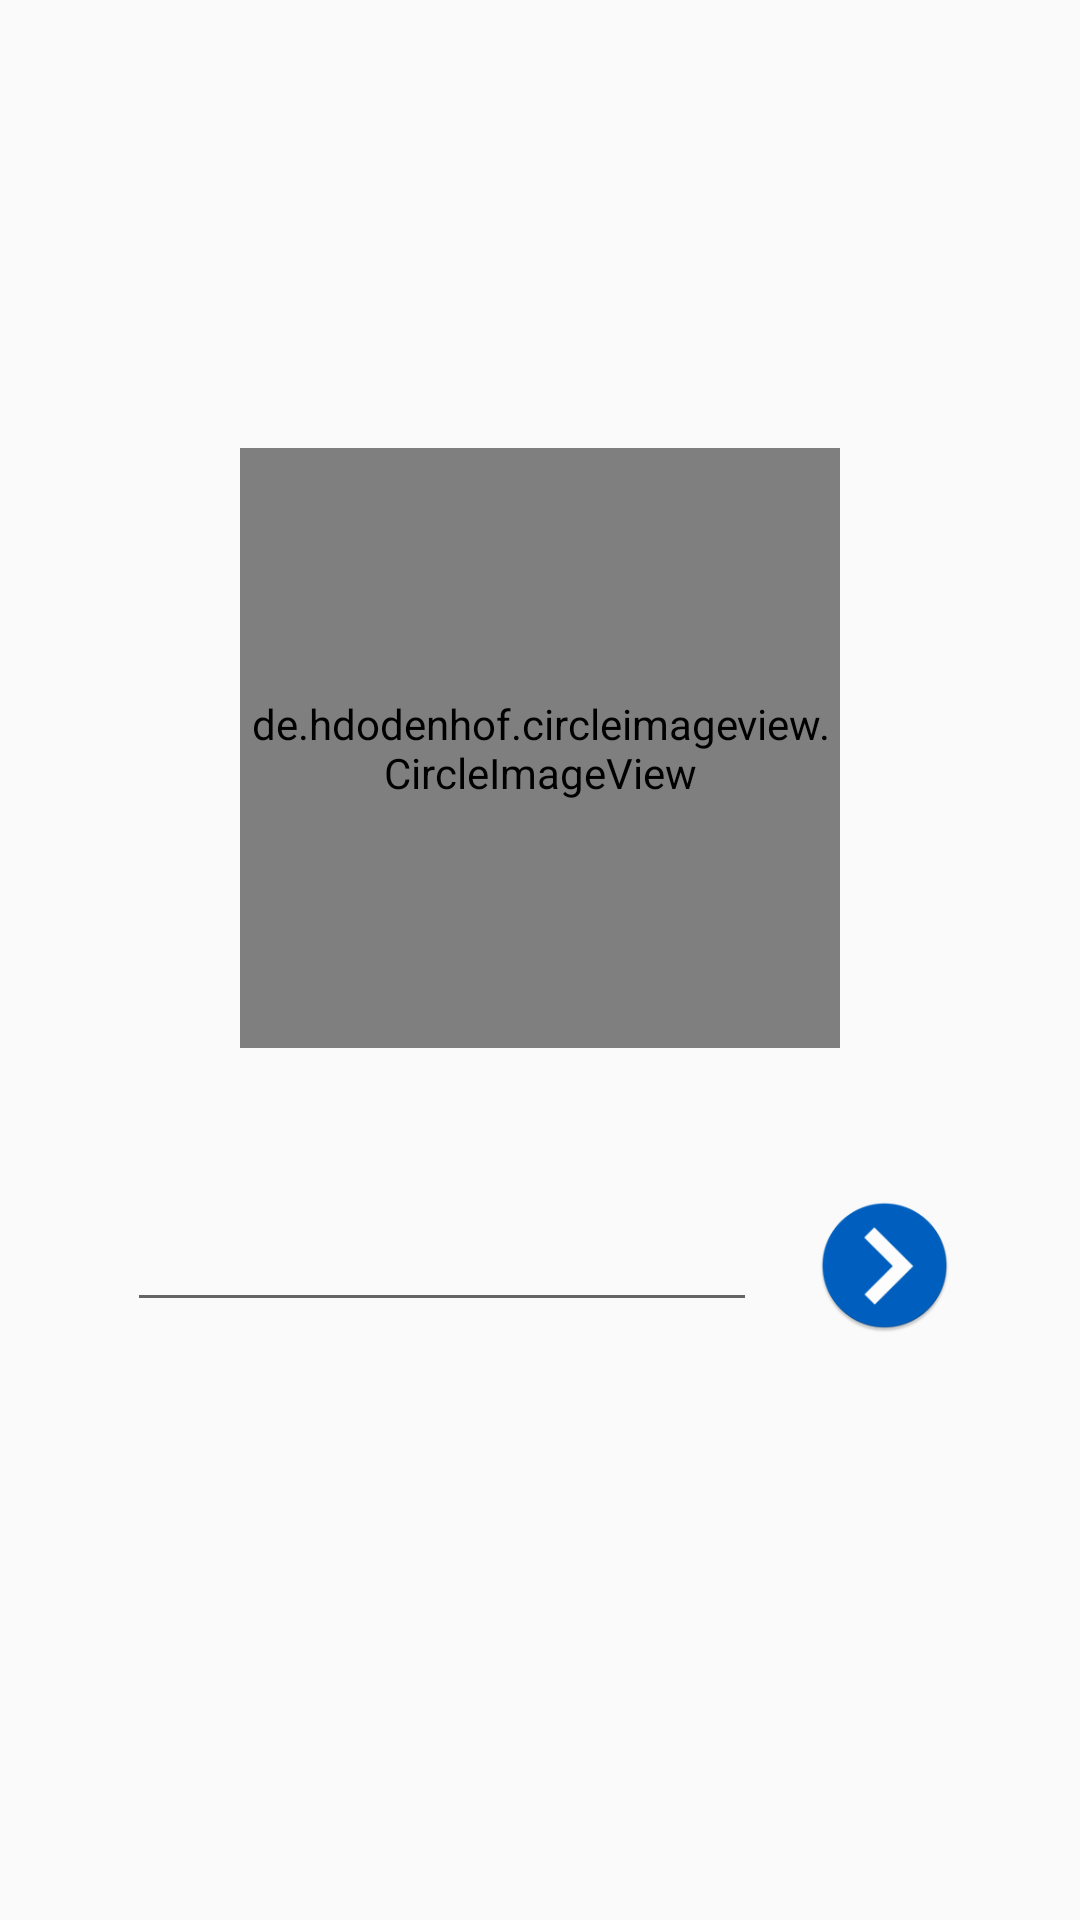

Icon click points for this 1080*1920 phone screenshot, format (x=x, y=y):
arrow round: (x=884, y=1267)
